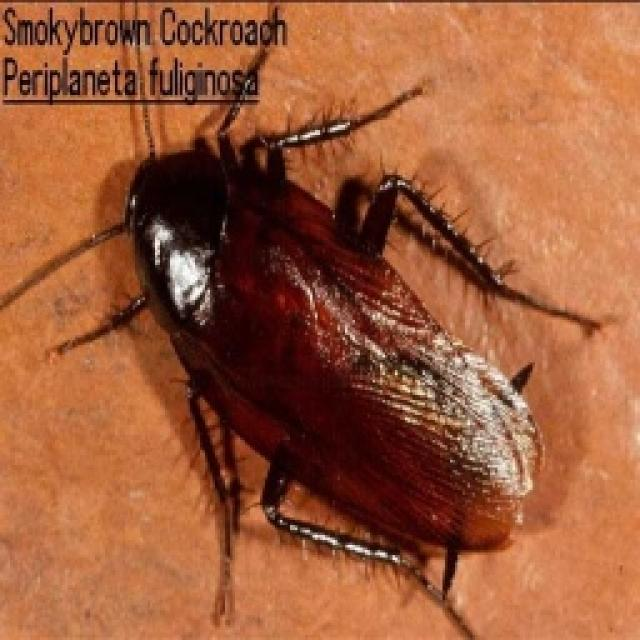cockroach: (76, 59, 570, 640)
